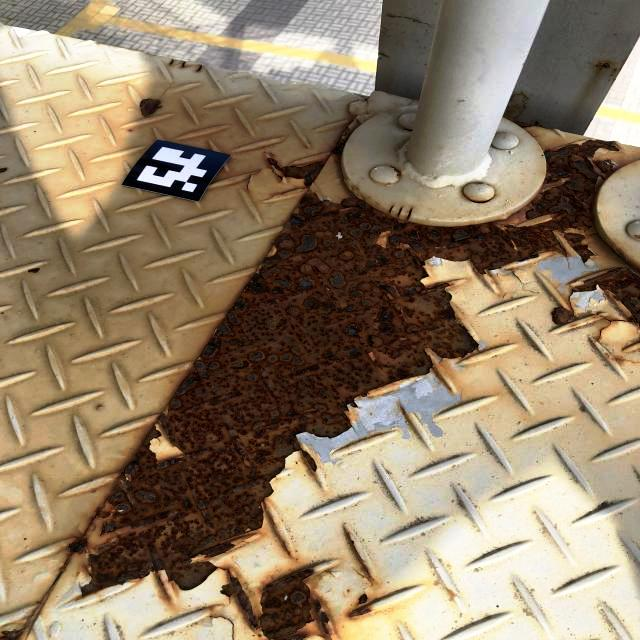Corrosion: (66, 138, 630, 596), (534, 254, 640, 391), (252, 561, 339, 640), (568, 263, 640, 341), (220, 576, 259, 631), (266, 157, 328, 190), (349, 592, 374, 618), (0, 626, 28, 640), (331, 141, 346, 160), (508, 119, 532, 128), (390, 165, 401, 180), (594, 62, 612, 71)
